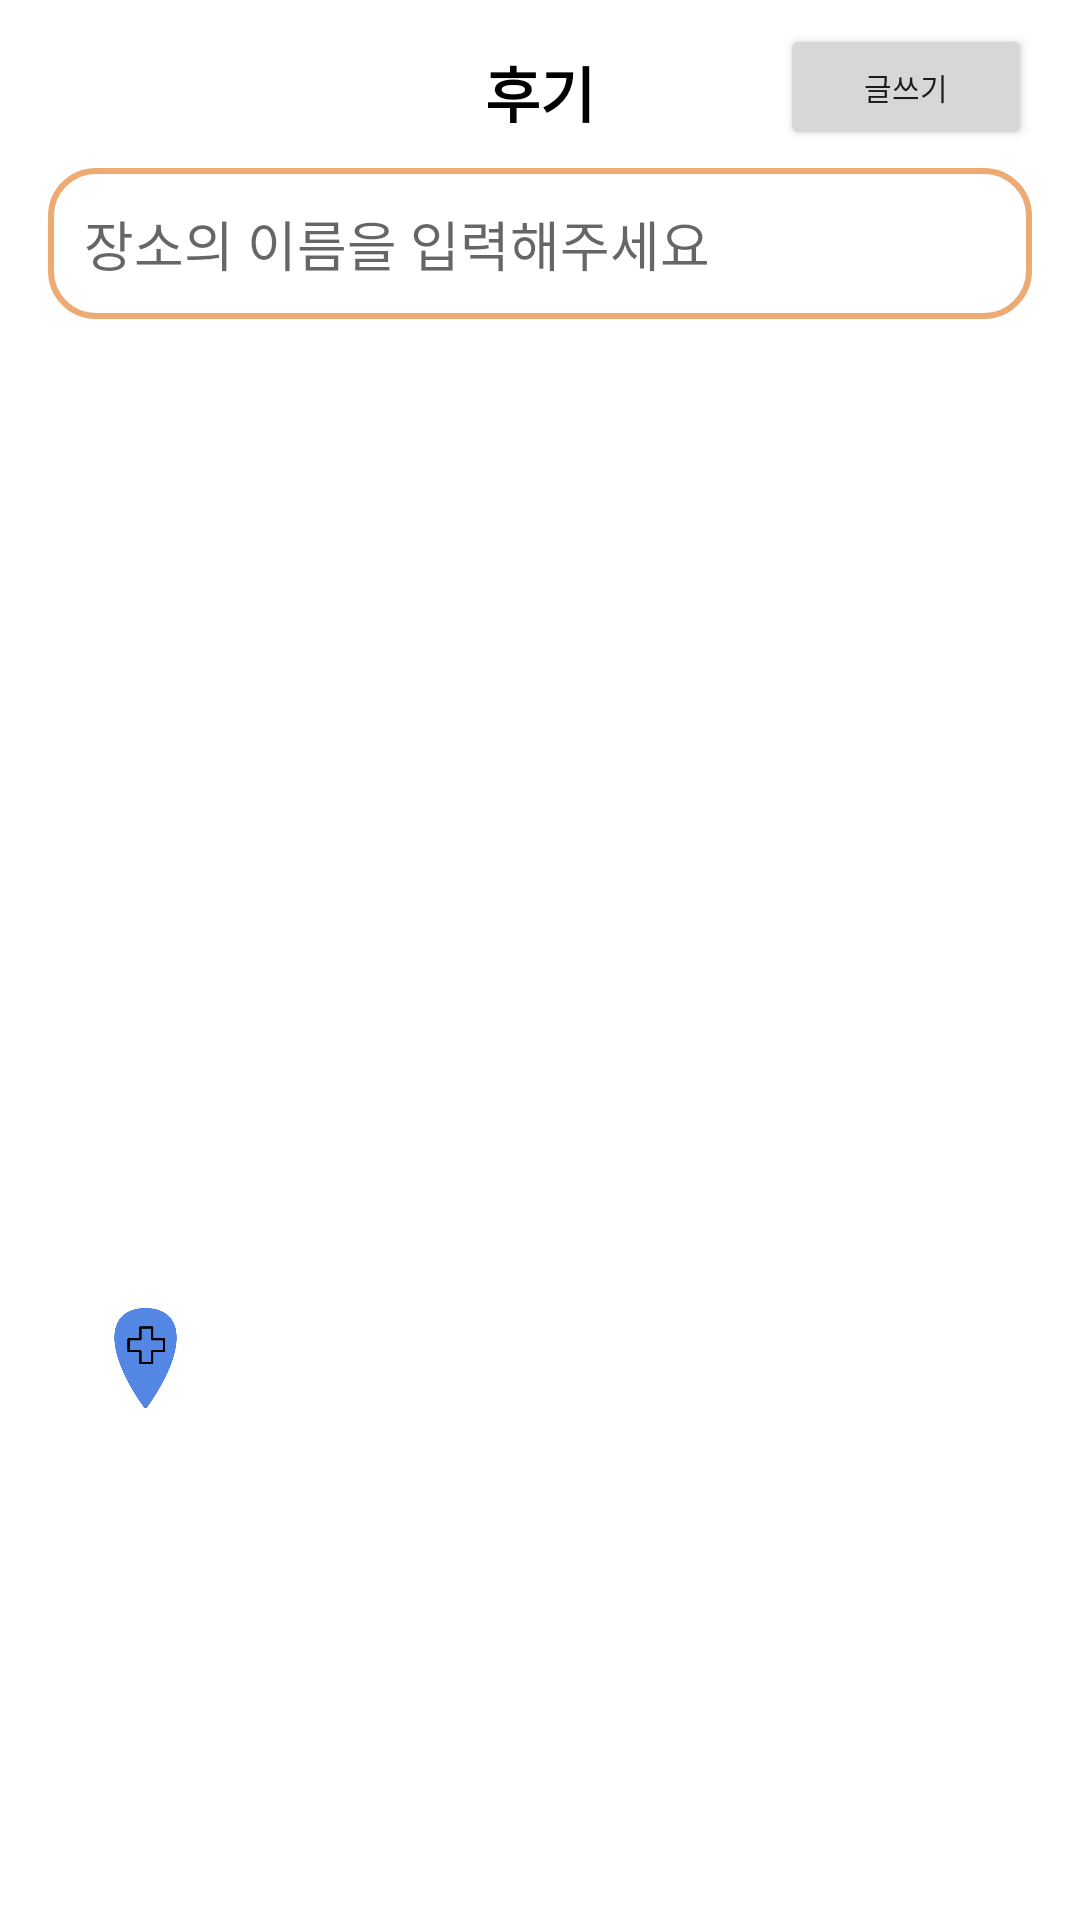

Point at icon controls on the screen. Image size 1080×1920, points as (x=x, y=y).
hospital: (x=145, y=1358)
